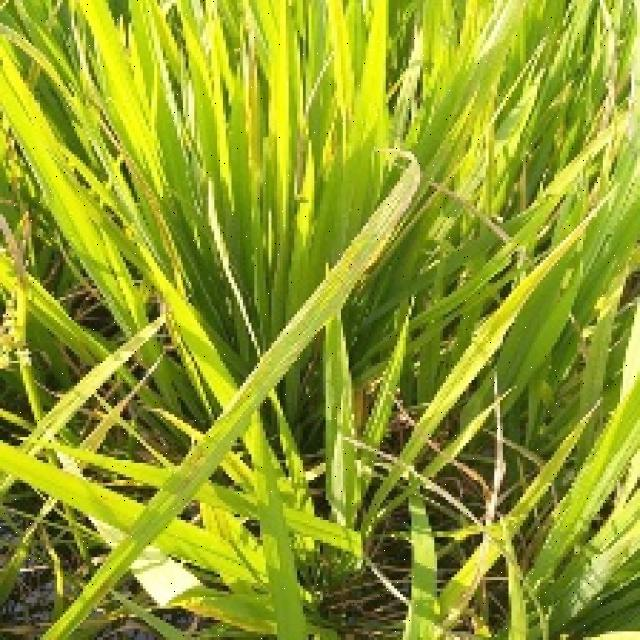health: (0, 7, 640, 449)
